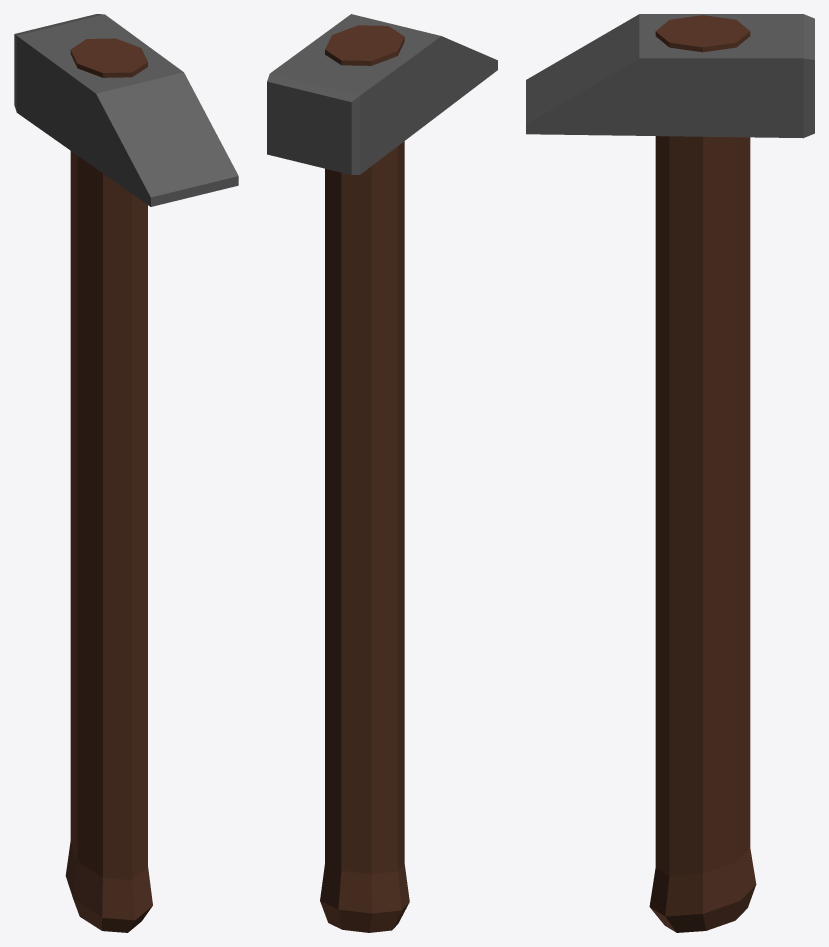
The model's file is Hammer_mat.fbx.
3 renders of one model, left to right at view 1: azimuth 30°, elevation 25°; view 2: azimuth 150°, elevation 25°; view 3: azimuth 270°, elevation 25°, orthographic. The views are drawn at different scales.
Parts seen in each view (by area): view 1: Hammer_mat; view 2: Hammer_mat; view 3: Hammer_mat.
Boxes of the visible parts, bbox=[...] form: Hammer_mat: bbox=[14, 14, 238, 932]; Hammer_mat: bbox=[267, 14, 497, 932]; Hammer_mat: bbox=[526, 14, 814, 932].
Bounding box in the file's own units: 4.06 × 38.15 × 11.17.
